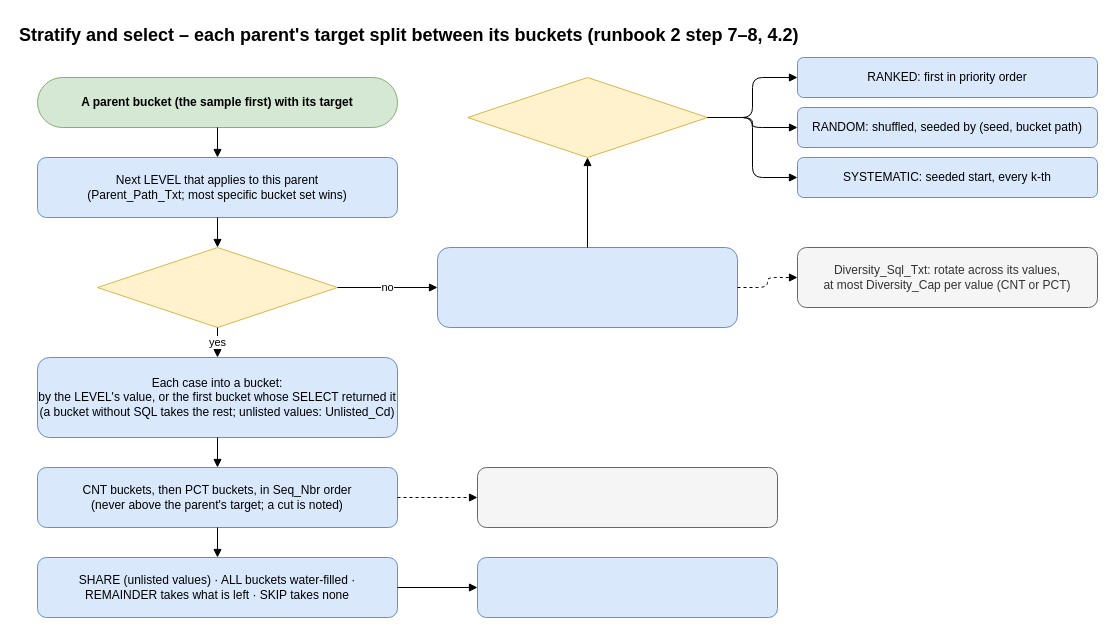
This 1115x635 diagram has some shape labels left out. Here are the shapes that lost their labels. From the top down, the centre of each, then its label:
[587,117]: Smpl_Method_Cd
[217,287]: A level left?
[587,287]: Leaf bucket: pick its target
[627,497]: Bucket cap Max_Ty / Max_Val (CNT, or PCT of the bucket's candidates)
[627,587]: Each bucket is a parent: the same again, one level down
